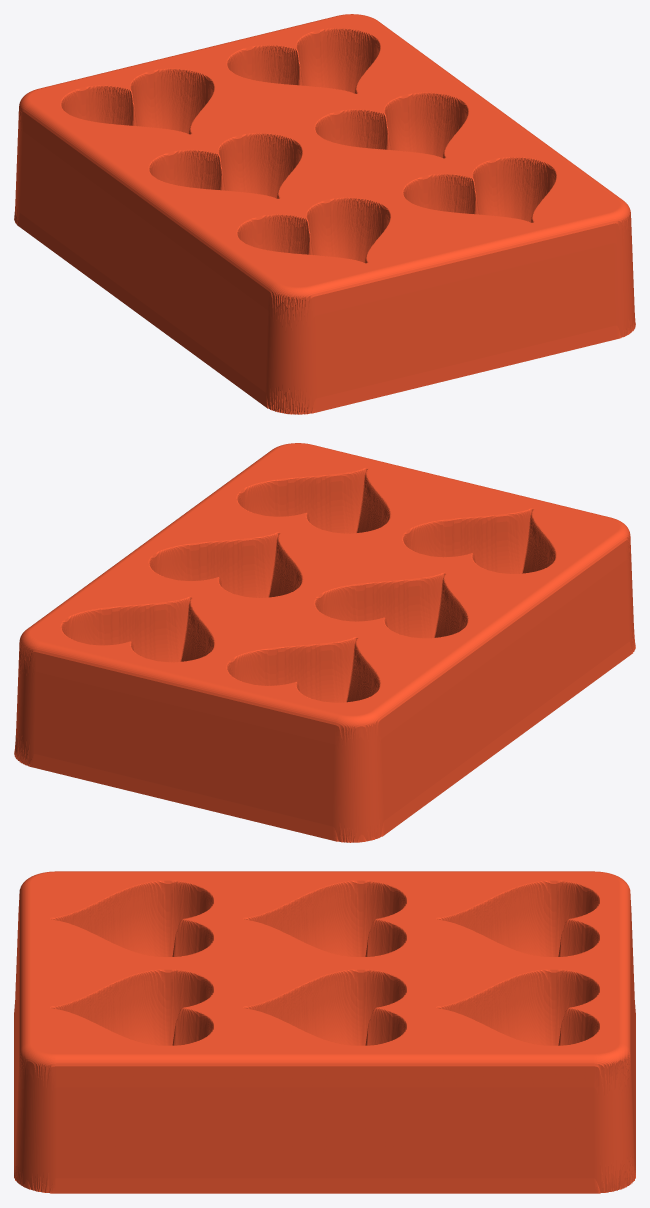
File: mold.glb
3 views of the same model, one above another, from view 1: azimuth 30°, elevation 25°; view 2: azimuth 150°, elevation 25°; view 3: azimuth 270°, elevation 25° (orthographic). The views are drawn at different scales.
Visible parts, largest first — view 1: geometry_0; view 2: geometry_0; view 3: geometry_0.
Boxes of the visible parts, bbox=[...] form: geometry_0: bbox=[14, 14, 635, 414]; geometry_0: bbox=[14, 443, 635, 842]; geometry_0: bbox=[14, 871, 635, 1193].
Size of the model in its own units: 0.0996 by 0.0314 by 0.1337.
